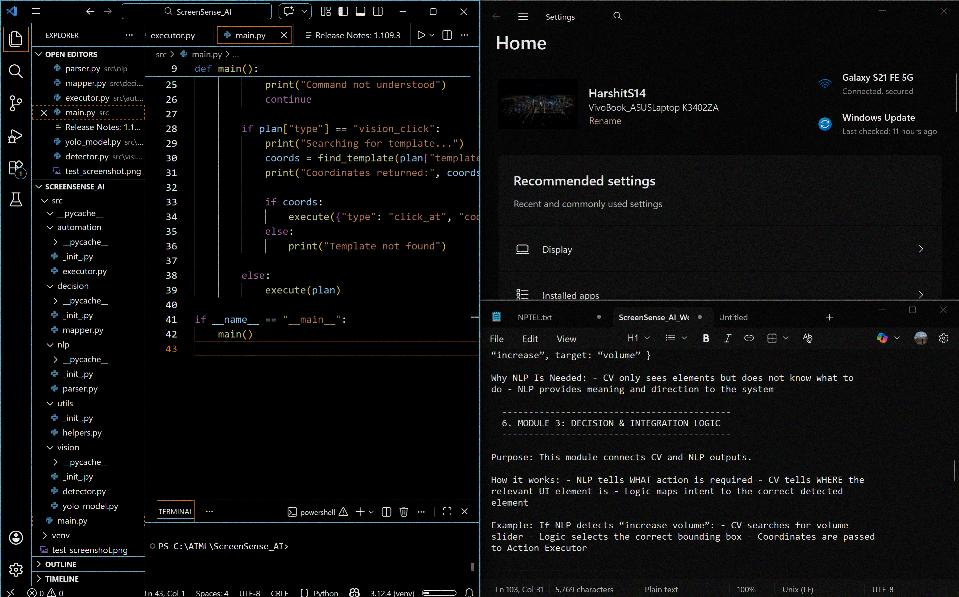close_button: (933, 302, 959, 323), (454, 1, 475, 23), (935, 1, 959, 20)
maximize_button: (904, 302, 926, 325), (422, 1, 444, 23), (904, 1, 927, 21)
minimize_button: (870, 301, 898, 324), (871, 1, 893, 20), (394, 1, 410, 21)
